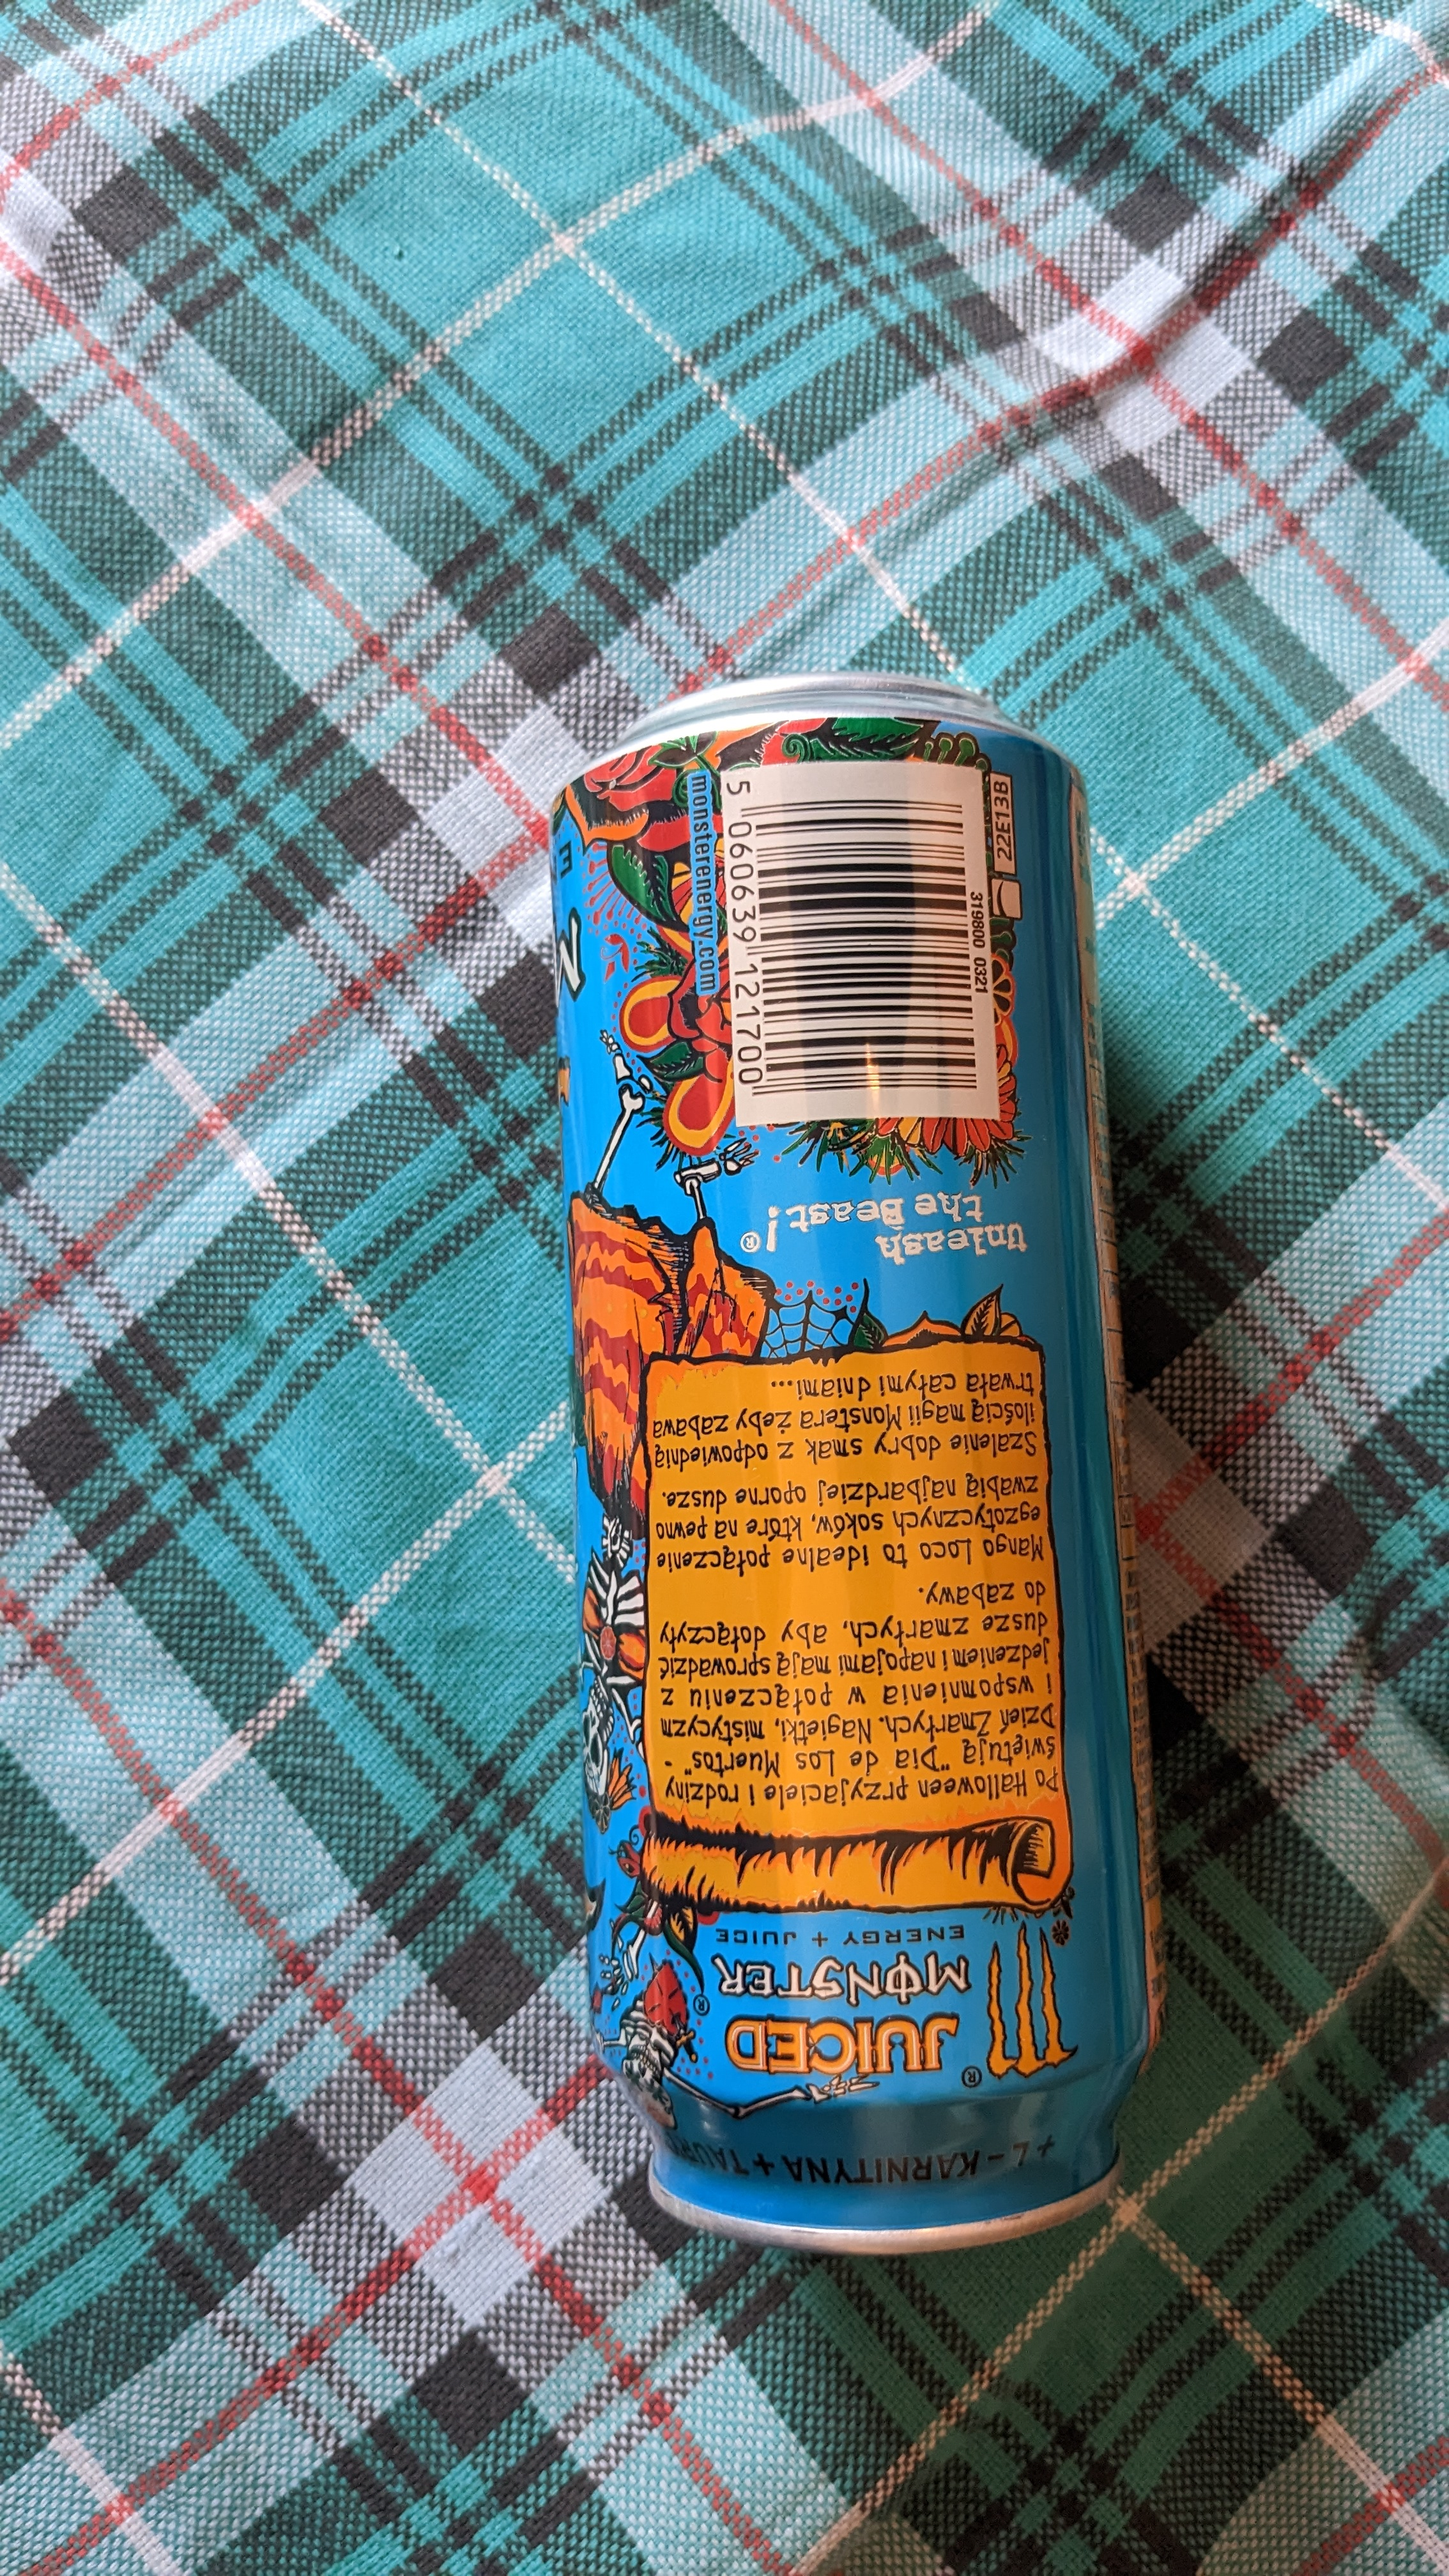monster: (483, 679, 1205, 2273)
